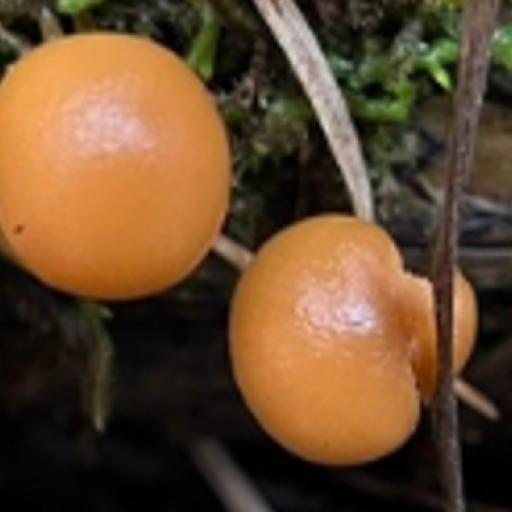mushroom: (1, 31, 230, 303), (233, 211, 480, 463)
